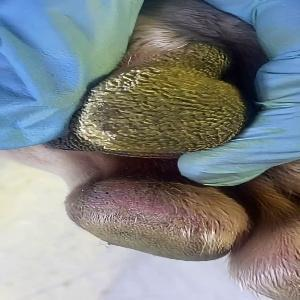keratosis: (69, 39, 245, 155)
